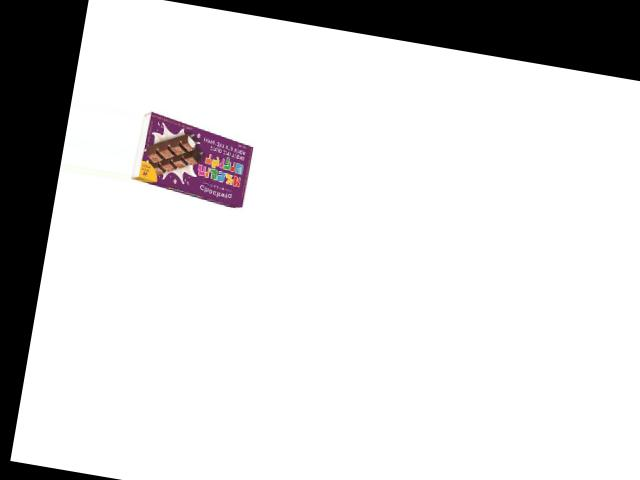chocolate: (127, 115, 263, 210)
